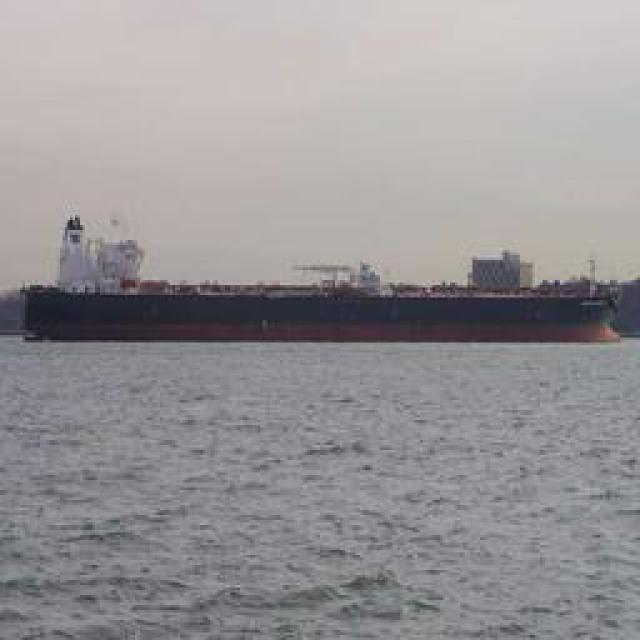Ship: (19, 241, 624, 341)
